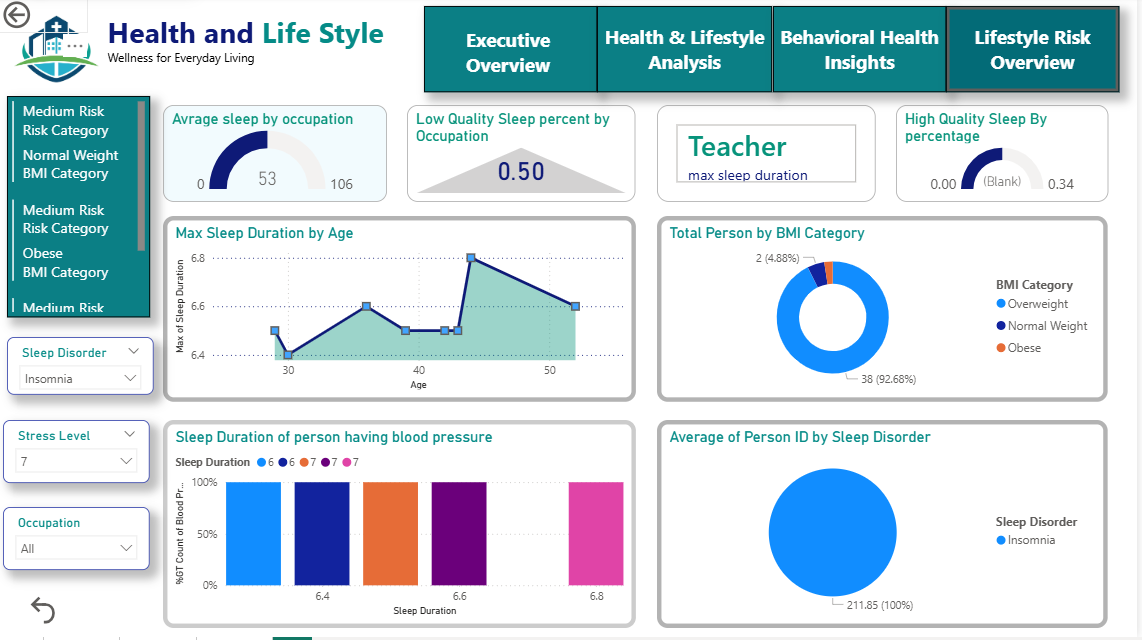

The dashboard page shown, as its layout file describes it:
{"tool":"powerbi","page":{"name":"Page 1","canvas":[1280,720],"ordinal":0},"visuals":[{"type":"gauge","fields":{"Y":["Sleep_health_and_lifestyle_dataset (3).Sum of Sleep Duration average per Occupation"]},"box":[184.4,121.3,252.2,109.4],"z":0},{"type":"kpi","fields":{"Indicator":["Sleep_health_and_lifestyle_dataset (3).Low Quality Sleep percent"],"TrendLine":["Sleep_health_and_lifestyle_dataset (3).Occupation"]},"box":[459.2,121.3,257,109.4],"z":1000},{"type":"cardVisual","fields":{"Data":["Sleep_health_and_lifestyle_dataset (3).max sleep duration"]},"box":[739.9,121.3,246.2,109.4],"z":2000},{"type":"gauge","fields":{"Y":["Sleep_health_and_lifestyle_dataset (3).High Quality Sleep By percentage"]},"box":[1008.8,121.3,239.1,109.4],"z":3000},{"type":"pieChart","fields":{"Category":["Sleep_health_and_lifestyle_dataset (3).Sleep Disorder "],"Y":["Avg(Sleep_health_and_lifestyle_dataset (3).Person ID)"]},"box":[740.2,475.9,507.4,234],"z":4000},{"type":"donutChart","title":"Total Person by BMI Category","fields":{"Category":["Sleep_health_and_lifestyle_dataset (3).BMI Category"],"Y":["CountNonNull(Sleep_health_and_lifestyle_dataset (3).Person ID)"]},"box":[740.2,246.4,507.4,209.2],"z":5000},{"type":"hundredPercentStackedColumnChart","title":"Sleep Duration of person having blood pressure ","fields":{"Category":["Sleep_health_and_lifestyle_dataset (3).Sleep Duration"],"Y":["CountNonNull(Sleep_health_and_lifestyle_dataset (3).Blood Pressure)"],"Series":["Sleep_health_and_lifestyle_dataset (3).Sleep Duration"]},"box":[184.5,475.9,532.1,234],"z":6000},{"type":"lineChart","title":"Max  Sleep Duration by Age","fields":{"Category":["Sleep_health_and_lifestyle_dataset (3).Age"],"Y":["Max(Sleep_health_and_lifestyle_dataset (3).Sleep Duration)"]},"box":[184.5,246.4,532.1,209.2],"z":7000},{"type":"image","box":[5.6,5.6,118.1,105.8],"z":8000},{"type":"textbox","box":[116.6,10.7,361.6,84.5],"z":9000},{"type":"actionButton","box":[29.2,669.4,100.1,40.5],"z":10000},{"type":"slicer","fields":{"Values":["Sleep_health_and_lifestyle_dataset (3).Sleep Disorder"]},"box":[9,382.5,165.4,65.2],"z":11000},{"type":"slicer","fields":{"Values":["Sleep_health_and_lifestyle_dataset (3).Stress Level"]},"box":[4.5,475.9,165.4,70.9],"z":12000},{"type":"slicer","fields":{"Values":["Sleep_health_and_lifestyle_dataset (3).Occupation"]},"box":[4.5,573.8,165.4,70.9],"z":13000},{"type":"multiRowCard","fields":{"Values":["Sleep_health_and_lifestyle_dataset (3).Risk Category","Sleep_health_and_lifestyle_dataset (3).BMI Category"]},"box":[9,111.4,160.9,248.6],"z":14000},{"type":"actionButton","box":[0,0,100,40],"z":15000},{"type":"actionButton","box":[478.5,10.3,194.8,96.8],"z":16000},{"type":"actionButton","box":[673.3,10.3,197.1,96.8],"z":17000},{"type":"actionButton","box":[870.4,10.3,194.8,96.8],"z":18000},{"type":"actionButton","box":[1065.2,10.3,194.8,96.8],"z":19000}]}

Visuals, with their boxes on the page's 1280x720 design canvas (x1, y1, x2, y2). These are canvas units, not pixel positions in the 1142x640 screenshot, which may show the page scaled, cropped or inside an application window:
gauge - Sleep_health_and_lifestyle_dataset (3).Sum of Sleep Duration average per Occupation: BBox(184, 121, 437, 231)
kpi - Sleep_health_and_lifestyle_dataset (3).Low Quality Sleep percent x Sleep_health_and_lifestyle_dataset (3).Occupation: BBox(459, 121, 716, 231)
cardVisual - Sleep_health_and_lifestyle_dataset (3).max sleep duration: BBox(740, 121, 986, 231)
gauge - Sleep_health_and_lifestyle_dataset (3).High Quality Sleep By percentage: BBox(1009, 121, 1248, 231)
pieChart - Sleep_health_and_lifestyle_dataset (3).Sleep Disorder  x Avg(Sleep_health_and_lifestyle_dataset (3).Person ID): BBox(740, 476, 1248, 710)
"Total Person by BMI Category" donutChart: BBox(740, 246, 1248, 456)
"Sleep Duration of person having blood pressure " hundredPercentStackedColumnChart: BBox(184, 476, 717, 710)
"Max  Sleep Duration by Age" lineChart: BBox(184, 246, 717, 456)
image: BBox(6, 6, 124, 111)
textbox: BBox(117, 11, 478, 95)
actionButton: BBox(29, 669, 129, 710)
slicer - Sleep_health_and_lifestyle_dataset (3).Sleep Disorder: BBox(9, 382, 174, 448)
slicer - Sleep_health_and_lifestyle_dataset (3).Stress Level: BBox(4, 476, 170, 547)
slicer - Sleep_health_and_lifestyle_dataset (3).Occupation: BBox(4, 574, 170, 645)
multiRowCard - Sleep_health_and_lifestyle_dataset (3).Risk Category x Sleep_health_and_lifestyle_dataset (3).BMI Category: BBox(9, 111, 170, 360)
actionButton: BBox(0, 0, 100, 40)
actionButton: BBox(478, 10, 673, 107)
actionButton: BBox(673, 10, 870, 107)
actionButton: BBox(870, 10, 1065, 107)
actionButton: BBox(1065, 10, 1260, 107)
